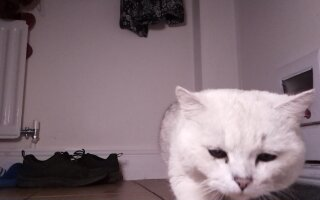bad: (162, 85, 315, 200)
